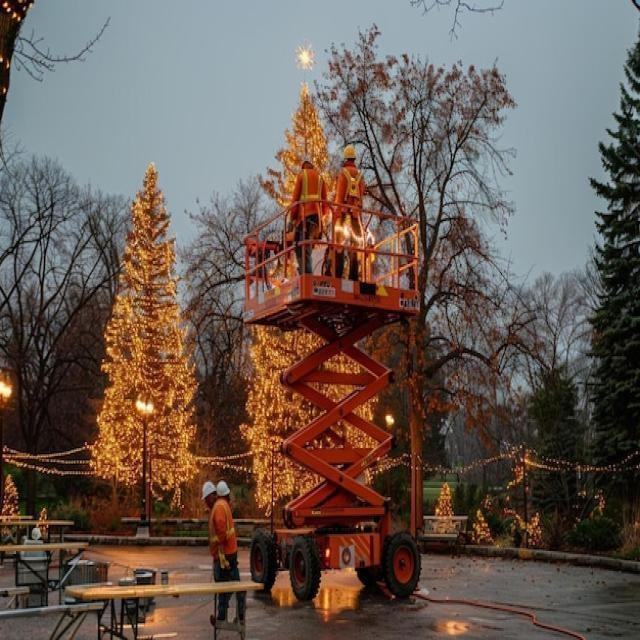Arnes_seguridad: (340, 168, 363, 204)
